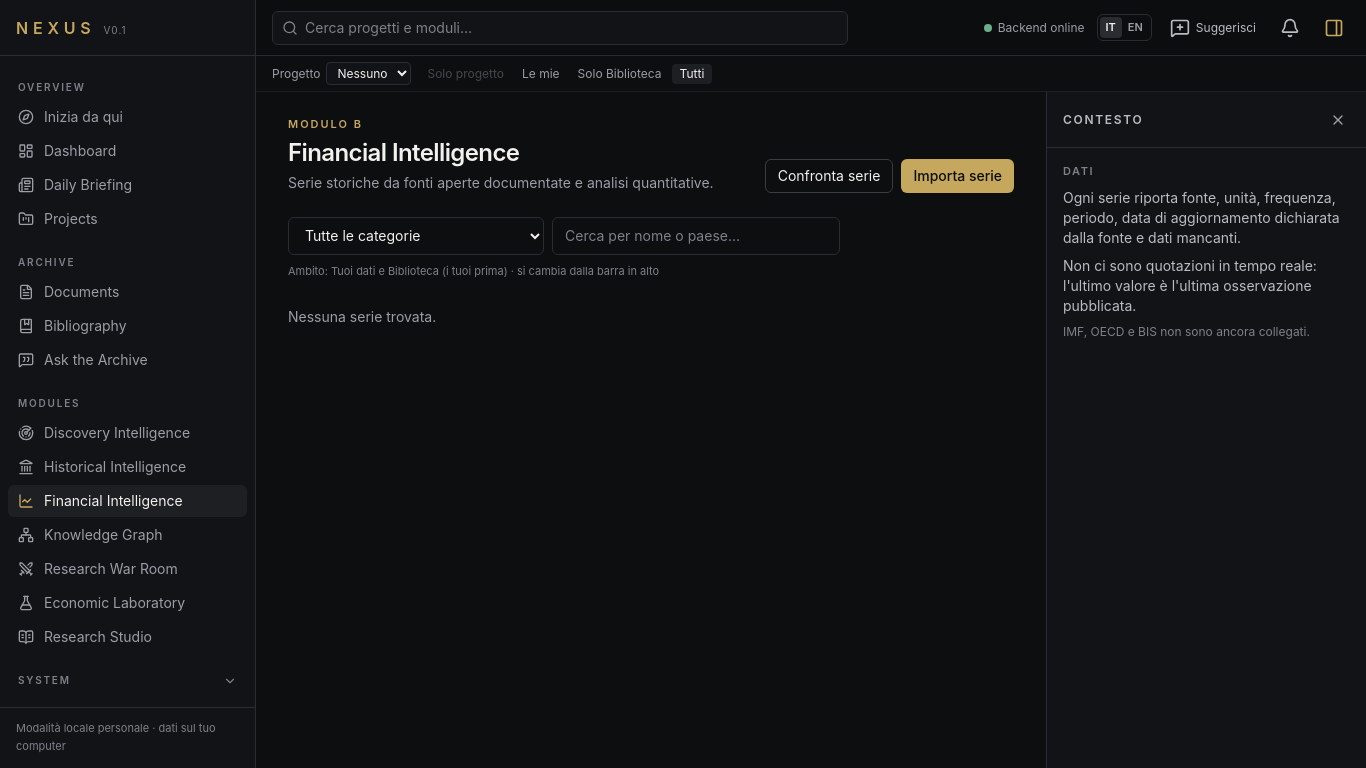
financial pages › imports a preset series
Click the button "Importa serie": (958, 176) left=901, top=158, right=1014, bottom=192
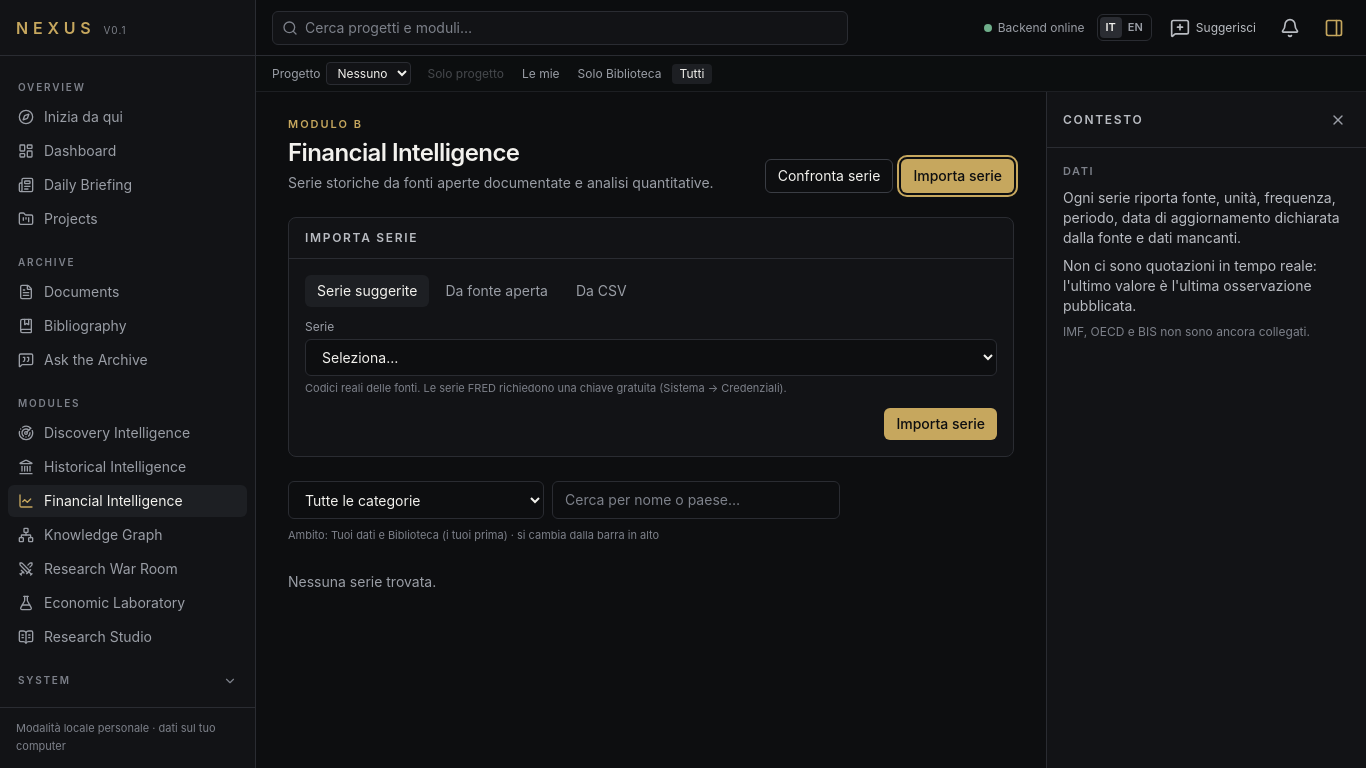
Select "World Bank · Inflazione — Italia" in the dropdown labelled "Serie": (651, 357) left=305, top=338, right=997, bottom=376
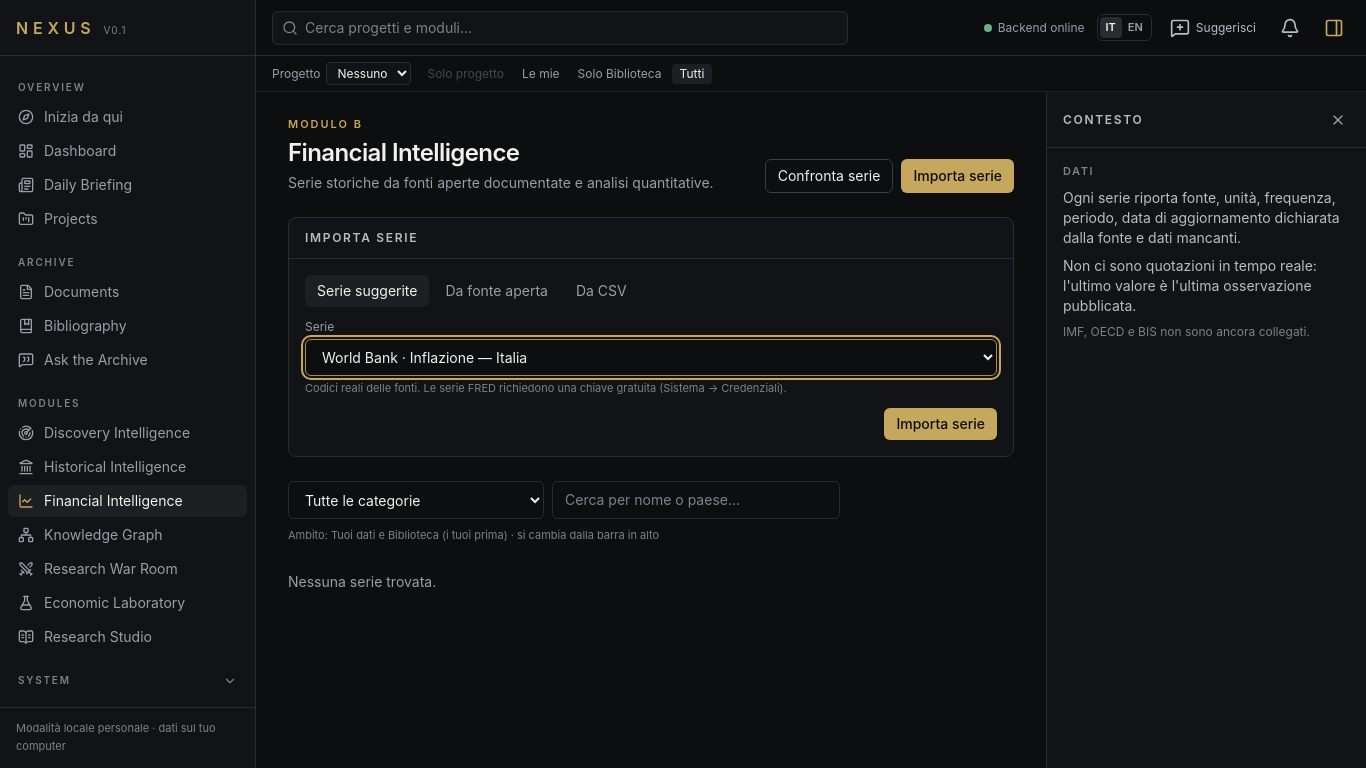
Click the 2nd button "Importa serie": (941, 424) left=884, top=408, right=997, bottom=440
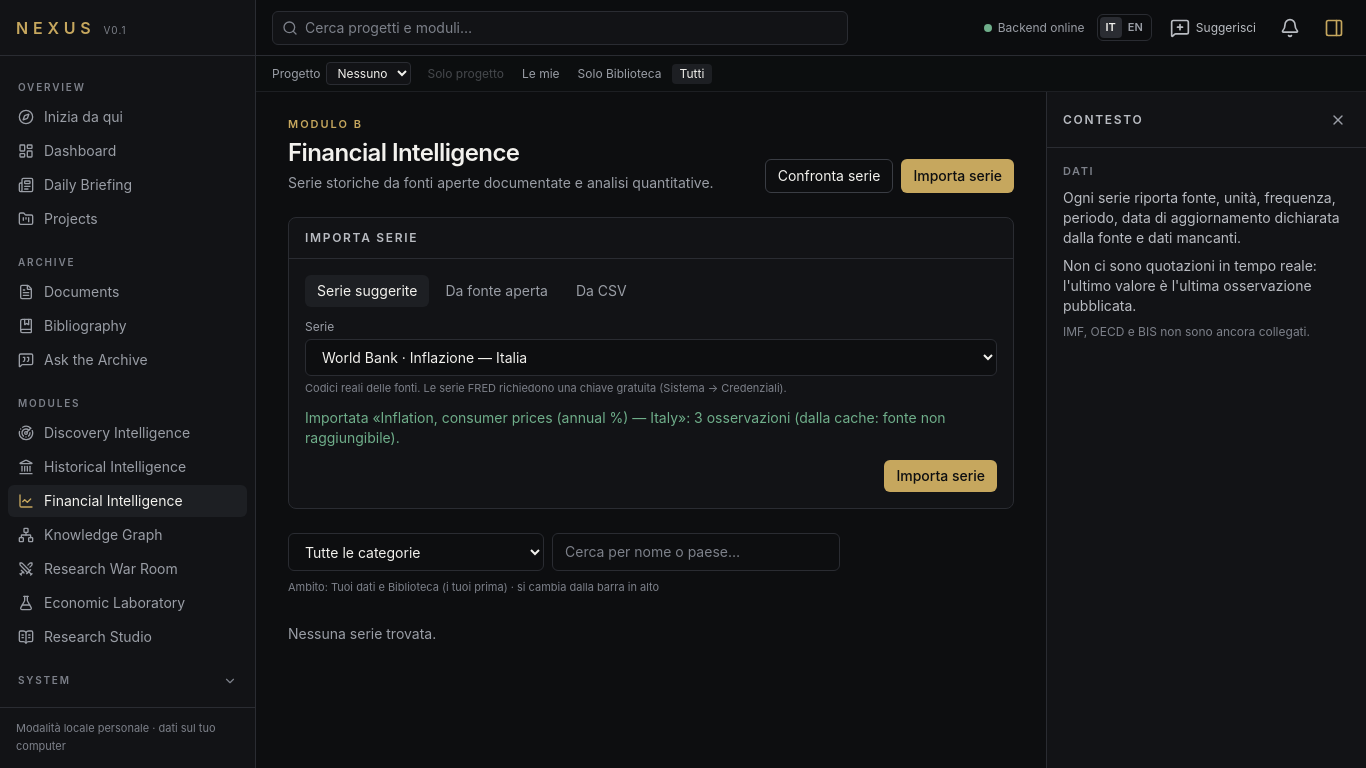
expect the text "dalla cache: fonte non raggiungibile" is shown: met, box left=305, top=409, right=946, bottom=446
